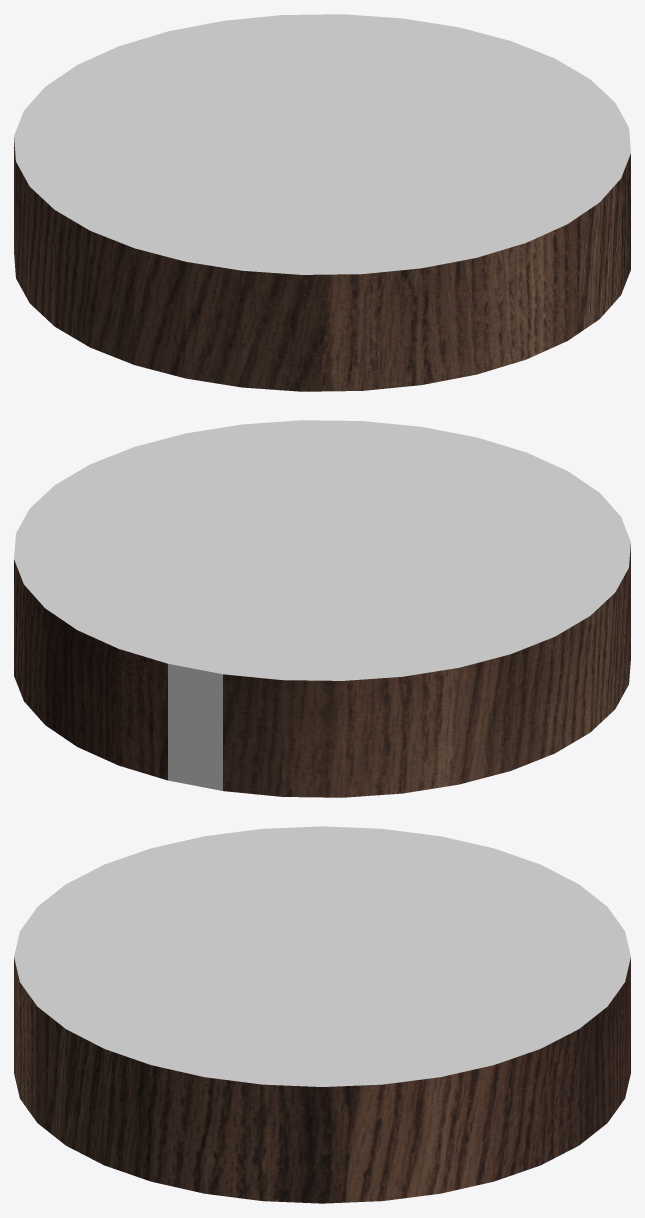
File: лампа.fbx
The picture shows the model from 3 angles, top to bottom: view 1: azimuth 30°, elevation 25°; view 2: azimuth 150°, elevation 25°; view 3: azimuth 270°, elevation 25°; orthographic projection.
Parts seen in each view (by area): view 1: Cylinder; view 2: Cylinder; view 3: Cylinder.
Boxes of the visible parts, x1,y1,x2,y2 form: Cylinder: [14, 14, 630, 391]; Cylinder: [14, 420, 630, 797]; Cylinder: [14, 826, 630, 1203].
Size of the model in its own units: 200 by 41.68 by 200.
2 materials, 1 textured.
